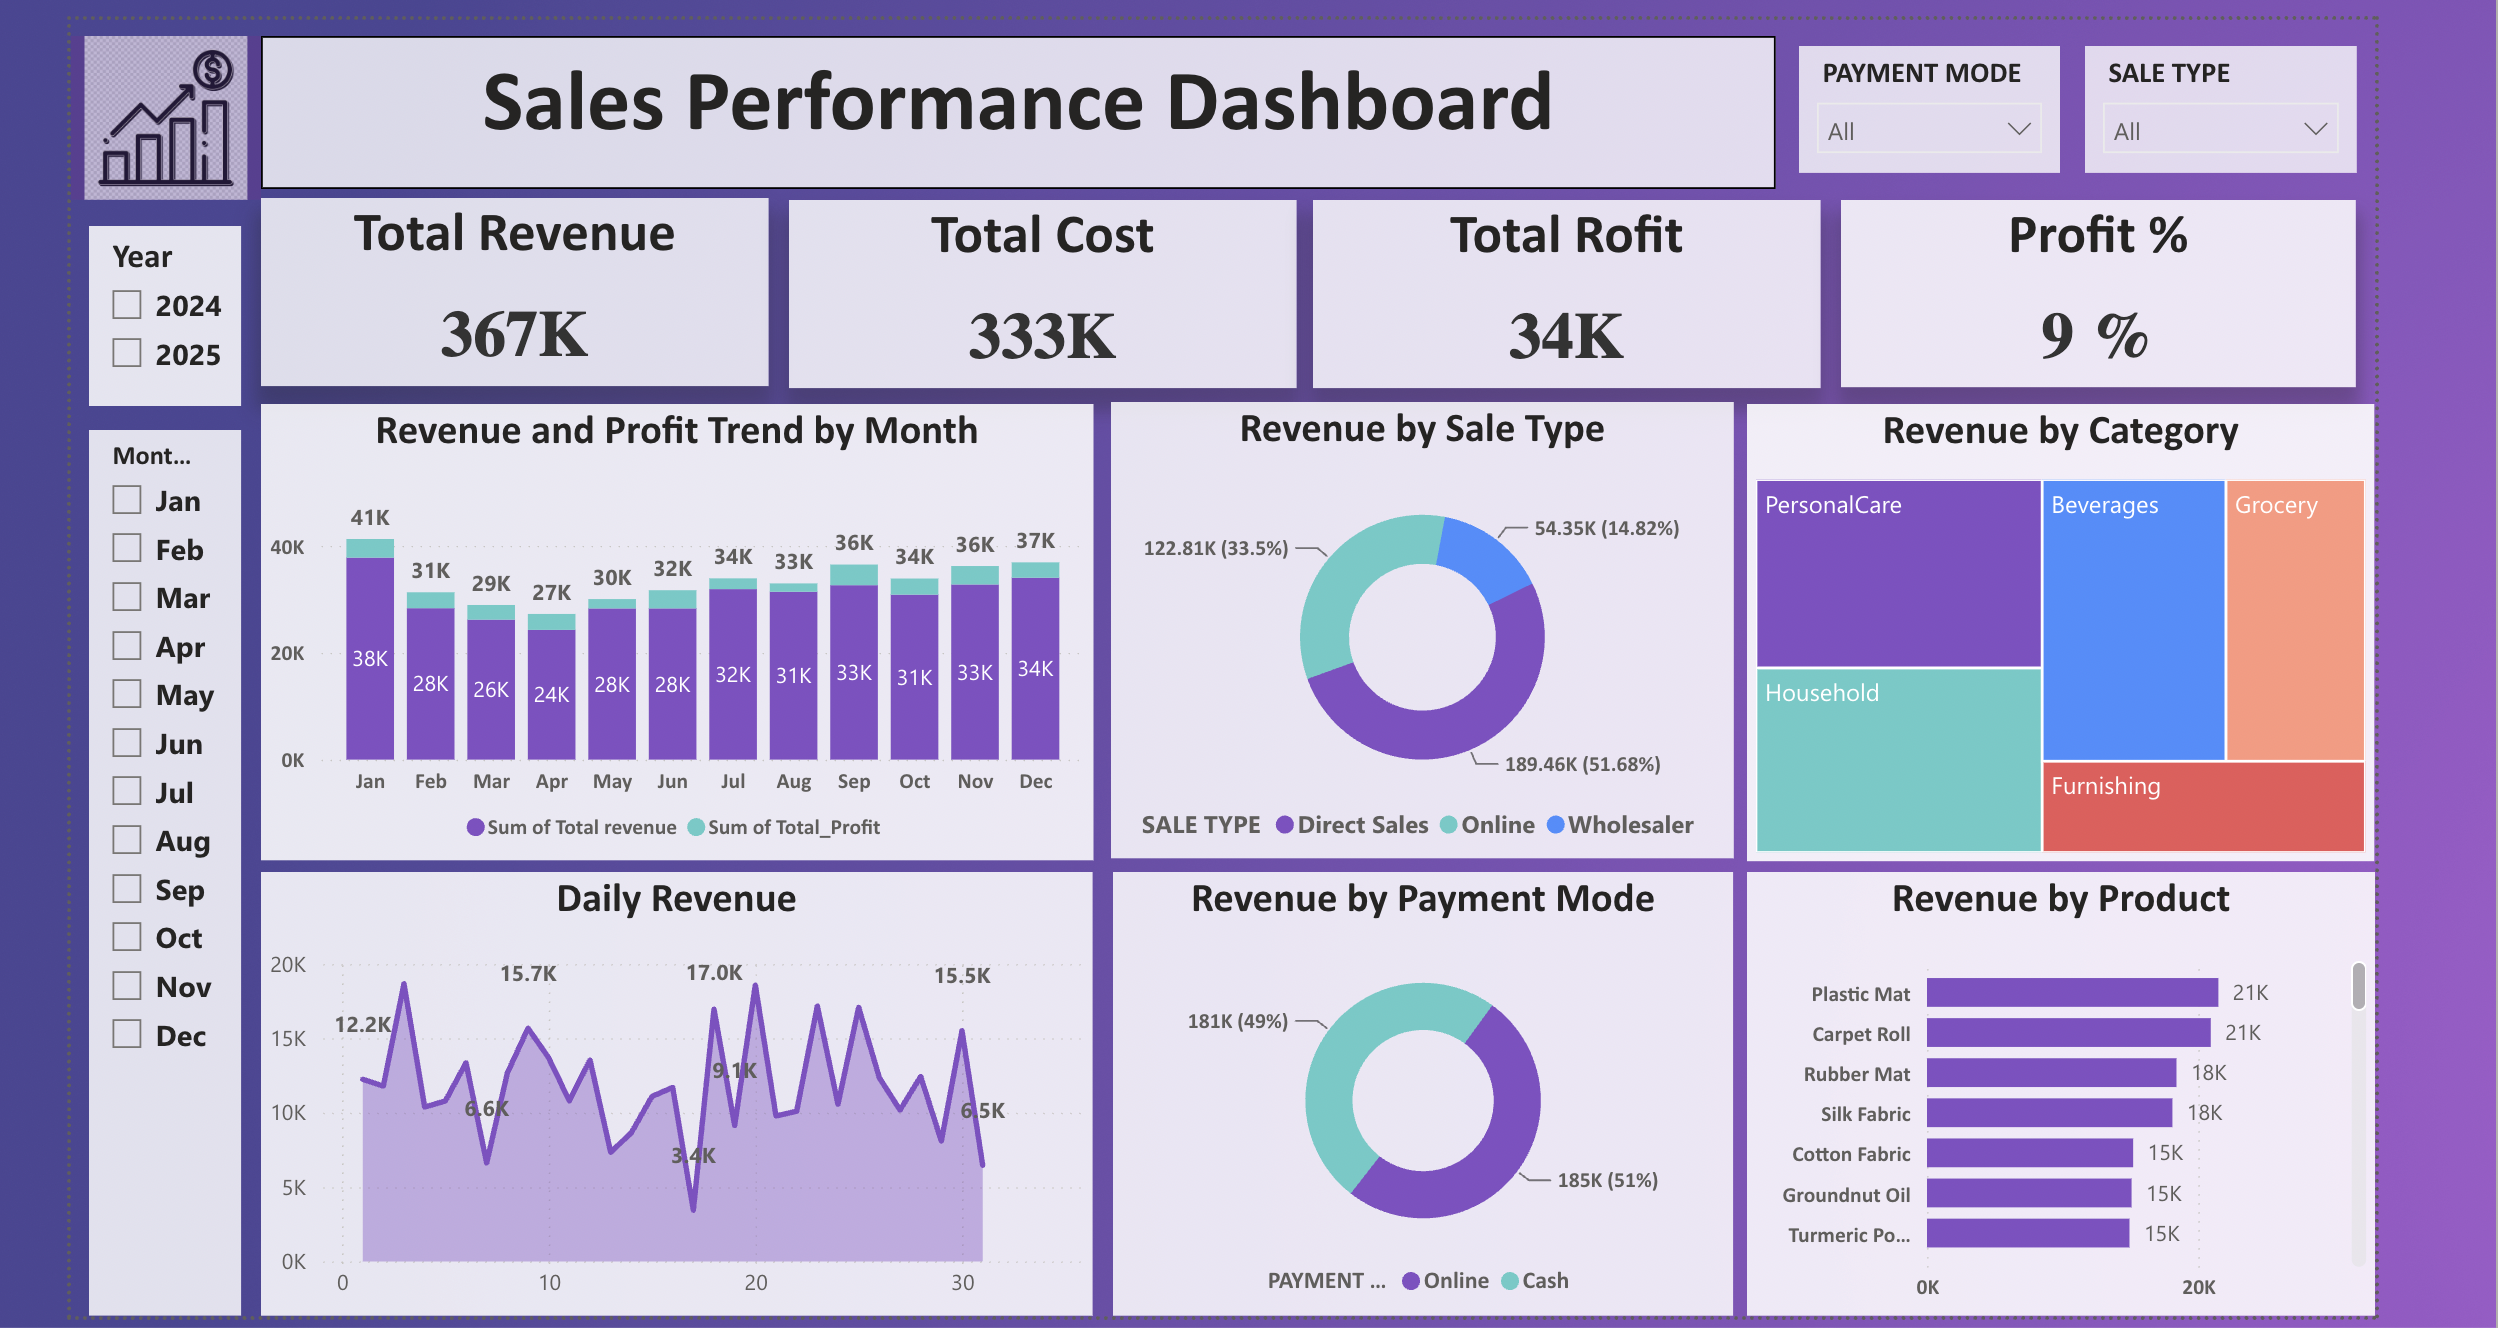

Layout of this report page (visuals, bound fields, positions):
{"tool":"powerbi","page":{"name":"Dashboard","canvas":[1280,720],"ordinal":0},"visuals":[{"type":"advanceCardE03760C5AB684758B56AA29F9E6C257B","title":"Total Revenue","fields":{"mainMeasure":["Sum(InputData.Total revenue)"]},"box":[105.8,99,282,104.4],"z":0},{"type":"advanceCardE03760C5AB684758B56AA29F9E6C257B","title":"Total Cost","fields":{"mainMeasure":["Sum(InputData.Total_Cost)"]},"box":[398.6,100.3,282,104.4],"z":1000},{"type":"advanceCardE03760C5AB684758B56AA29F9E6C257B","title":"Total Rofit","fields":{"mainMeasure":["Sum(InputData.Total_Profit)"]},"box":[690.2,100.3,282,104.4],"z":2000},{"type":"advanceCardE03760C5AB684758B56AA29F9E6C257B","title":"Profit %","fields":{"mainMeasure":["InputData.Profit % Measure"]},"box":[983.8,99.7,285.9,104.1],"z":3000},{"type":"slicer","fields":{"Values":["InputData.SALE TYPE"]},"box":[1118.7,14.7,151,70.4],"z":4000},{"type":"slicer","fields":{"Values":["InputData.PAYMENT MODE"]},"box":[960.4,14.7,145.2,70.4],"z":5000},{"type":"slicer","fields":{"Values":["InputData.Year"]},"box":[10.3,114.4,76.2,99.7],"z":6000},{"type":"slicer","fields":{"Values":["InputData.Month name"]},"box":[10.3,227.3,76.2,492.6],"z":7000},{"type":"columnChart","title":"Revenue and Profit Trend by Month","fields":{"Category":["InputData.Month name"],"Y":["Sum(InputData.Total revenue)","Sum(InputData.Total_Profit)"]},"box":[105.8,212.9,462.4,253.6],"z":8000},{"type":"donutChart","title":"Revenue by Payment Mode","fields":{"Category":["InputData.PAYMENT MODE"],"Y":["Sum(InputData.Total revenue)"]},"box":[579.2,473.6,344.6,246.3],"z":9000},{"type":"barChart","title":"Revenue by Product","fields":{"Category":["MasterData.PRODUCT"],"Y":["Sum(InputData.Total revenue)"]},"box":[931,473.6,349,246.3],"z":10000},{"type":"treemap","title":" Revenue by Category","fields":{"Group":["MasterData.CATEGORY"],"Values":["Sum(InputData.Total revenue)"]},"box":[931.5,213.6,348.5,254.2],"z":11000},{"type":"donutChart","title":"Revenue by Sale Type","fields":{"Category":["InputData.SALE TYPE"],"Y":["Sum(InputData.Total revenue)"]},"box":[577.7,212.6,346,253.7],"z":12000},{"type":"areaChart","title":"Daily Revenue","fields":{"Category":["InputData.Day"],"Y":["Sum(InputData.Total revenue)"]},"box":[105.6,473.6,461.9,246.3],"z":13000},{"type":"textbox","box":[105.6,8.8,841.6,85],"z":14000},{"type":"image","box":[0,8.8,105.6,90.9],"z":14001}]}

Visuals, with their boxes in screenshot pixels (x1, y1, x2, y2):
"Total Revenue" advanceCardE03760C5AB684758B56AA29F9E6C257B: <box>244,186,757,376</box>
"Total Cost" advanceCardE03760C5AB684758B56AA29F9E6C257B: <box>777,189,1289,379</box>
"Total Rofit" advanceCardE03760C5AB684758B56AA29F9E6C257B: <box>1307,189,1819,379</box>
"Profit %" advanceCardE03760C5AB684758B56AA29F9E6C257B: <box>1840,188,2360,377</box>
slicer - InputData.SALE TYPE: <box>2085,33,2360,161</box>
slicer - InputData.PAYMENT MODE: <box>1798,33,2062,161</box>
slicer - InputData.Year: <box>71,214,209,396</box>
slicer - InputData.Month name: <box>71,420,209,1315</box>
"Revenue and Profit Trend by Month" columnChart: <box>244,393,1085,854</box>
"Revenue by Payment Mode" donutChart: <box>1105,867,1731,1315</box>
"Revenue by Product" barChart: <box>1744,867,2379,1315</box>
" Revenue by Category" treemap: <box>1745,395,2379,857</box>
"Revenue by Sale Type" donutChart: <box>1102,393,1731,854</box>
"Daily Revenue" areaChart: <box>244,867,1084,1315</box>
textbox: <box>244,23,1774,177</box>
image: <box>52,23,244,188</box>
